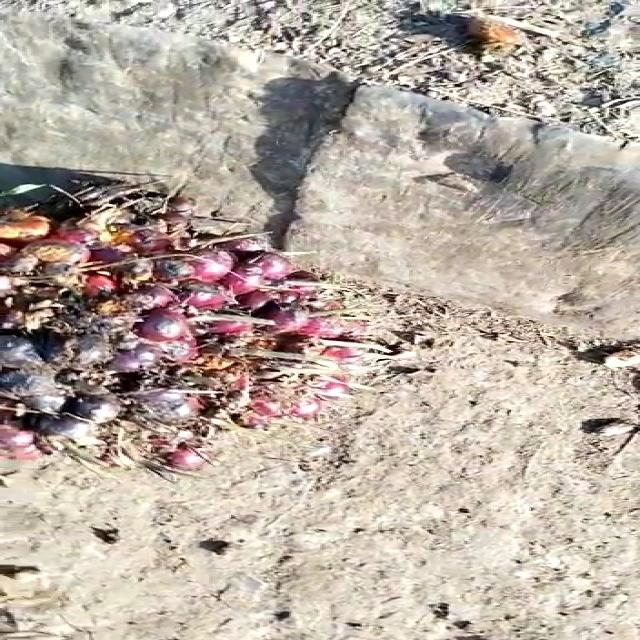palm oil: (0, 168, 352, 468)
